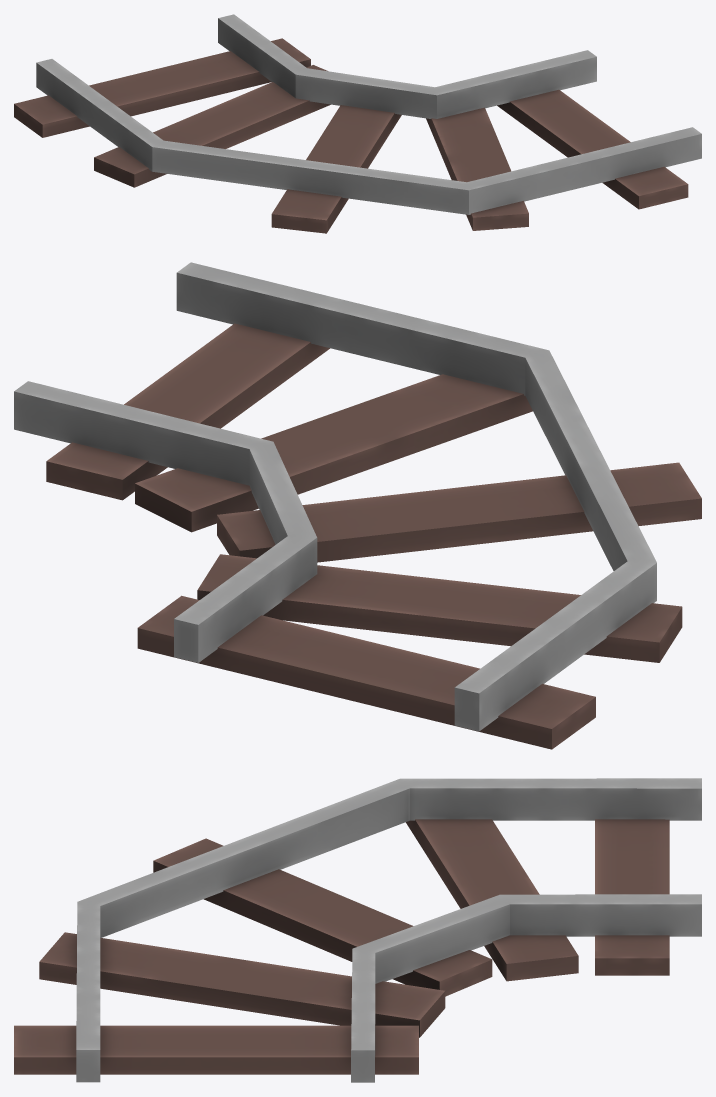
File: RailsObject_5.fbx
The picture shows the model from 3 angles, top to bottom: view 1: azimuth 30°, elevation 25°; view 2: azimuth 150°, elevation 25°; view 3: azimuth 270°, elevation 25°; orthographic projection. The views are drawn at different scales.
Visible parts, largest first — view 1: RailsObject_5; view 2: RailsObject_5; view 3: RailsObject_5.
Part boxes in pixels (x1,y1,x2,y2): RailsObject_5: [14, 14, 701, 233]; RailsObject_5: [14, 262, 701, 749]; RailsObject_5: [14, 778, 701, 1082].
Size of the model in its own units: 72.44 by 5.56 by 71.64.
